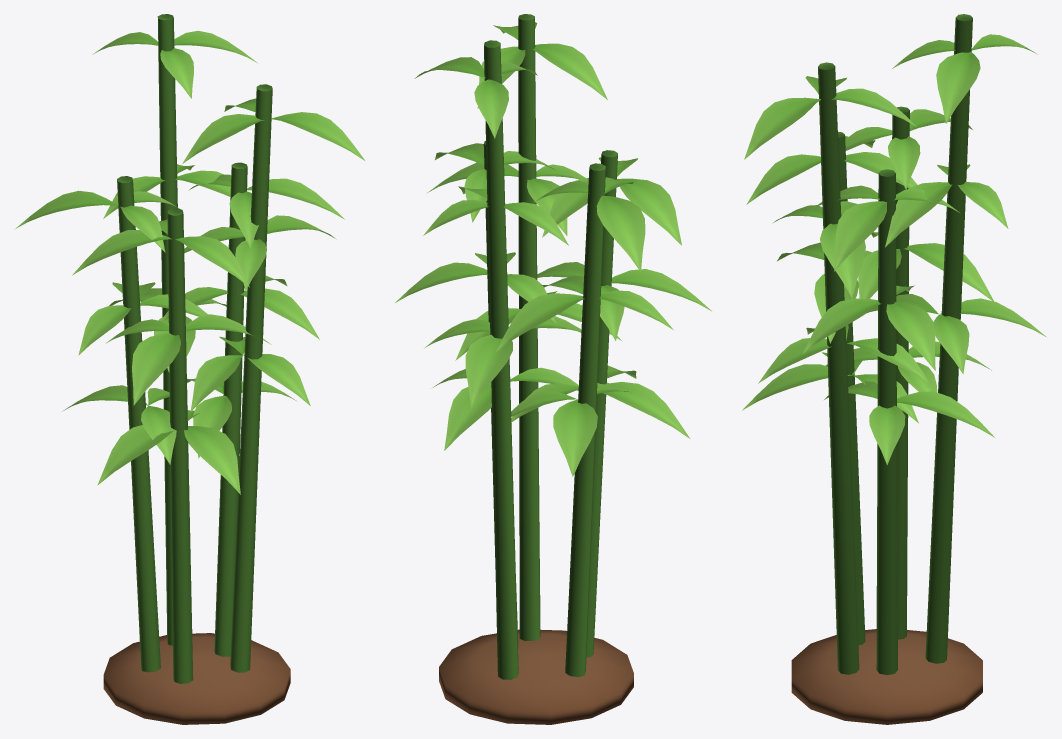
File: storybook-plant-bamboo.glb
3 views of the same model, side by side, from view 1: azimuth 30°, elevation 25°; view 2: azimuth 150°, elevation 25°; view 3: azimuth 270°, elevation 25° (orthographic). The views are drawn at different scales.
Visible parts, largest first — view 1: storybook-plant-bamboo; view 2: storybook-plant-bamboo; view 3: storybook-plant-bamboo.
Part boxes in pixels (x1,y1,x2,y2): storybook-plant-bamboo: [14, 14, 364, 724]; storybook-plant-bamboo: [395, 14, 711, 724]; storybook-plant-bamboo: [742, 14, 1045, 724].
Bounding box in the file's own units: 1.18 × 2.78 × 1.13.
